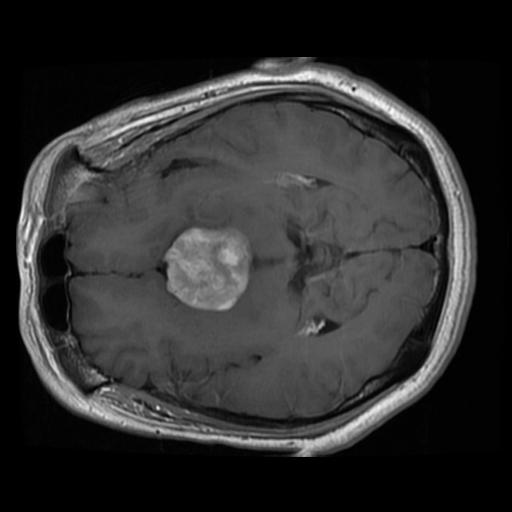pituitary tumour: (161, 226, 249, 312)
